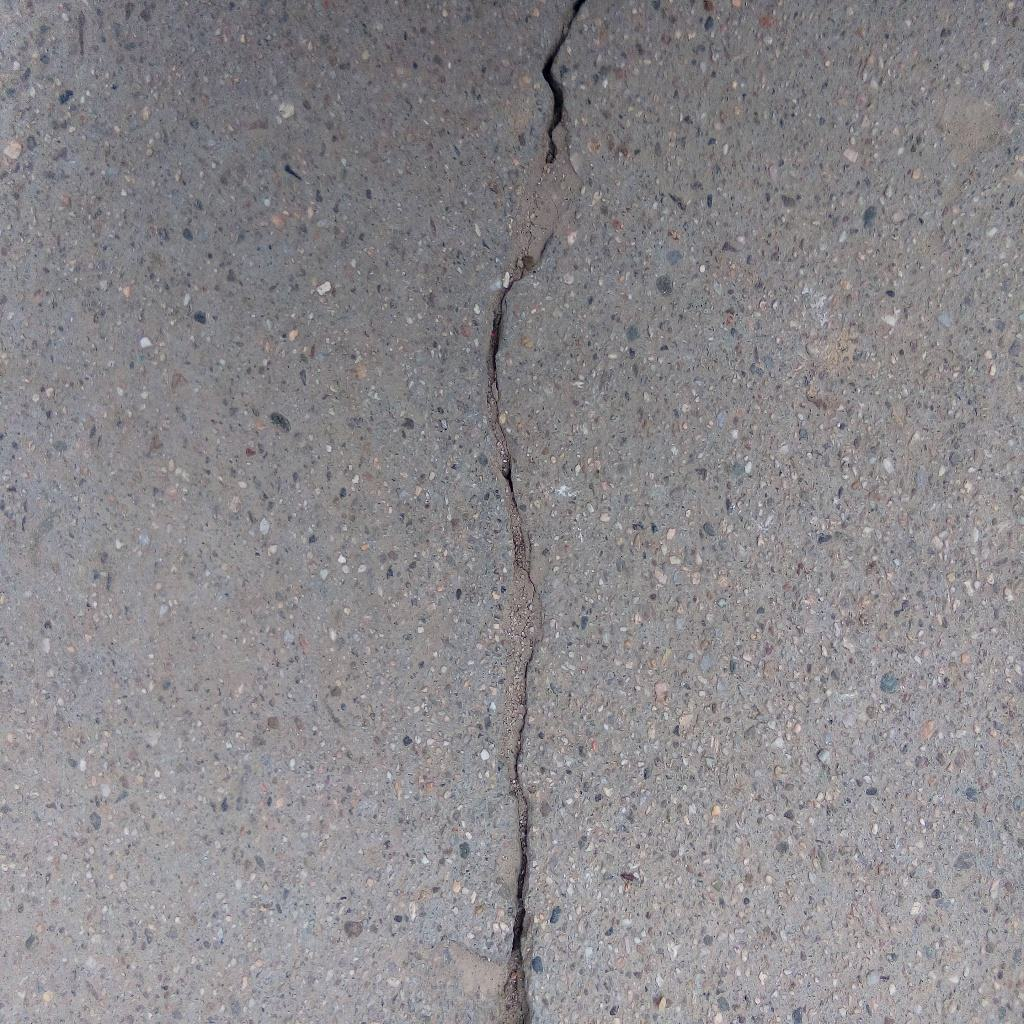Crack: (483, 1, 585, 1024)
